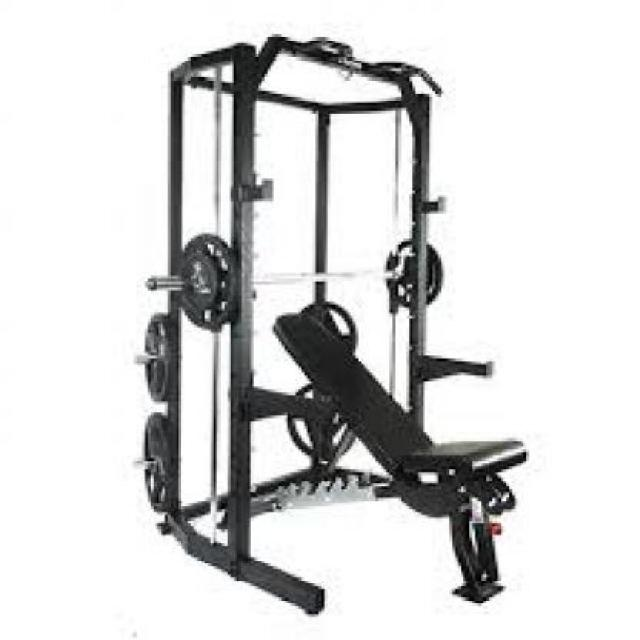smith machine: (132, 34, 530, 615)
